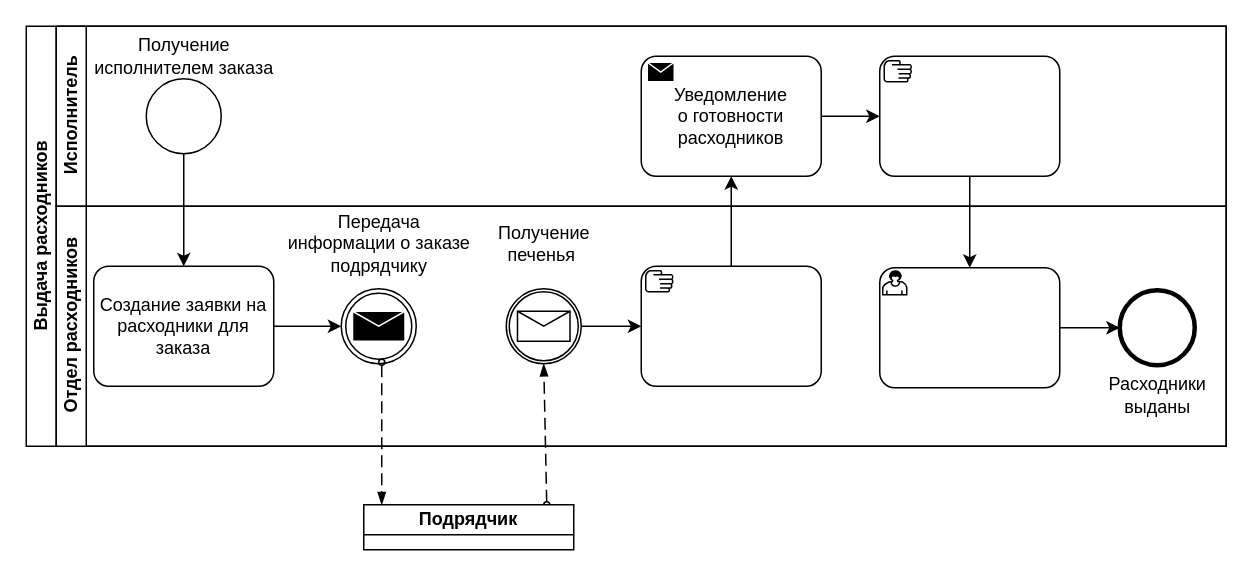
Some shapes in this 1253 by 576 pixel diagram are drawn without their labels. Here are the shapes that lost their labels. From the top down, the centre of each, then its label:
point 969,115: Получение расходников исполнителем
point 730,325: Сбор расходников
point 969,327: Перевод статуса выдачи в состояние "выполнено"
